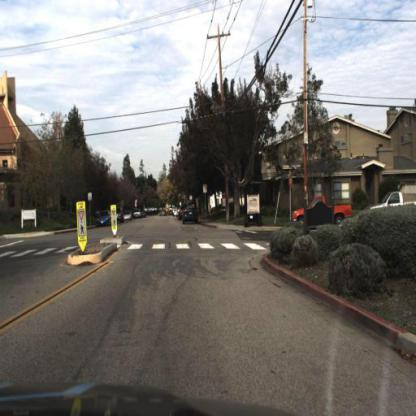car: (285, 193, 356, 227), (365, 188, 414, 218), (181, 203, 201, 226), (113, 206, 125, 224)
